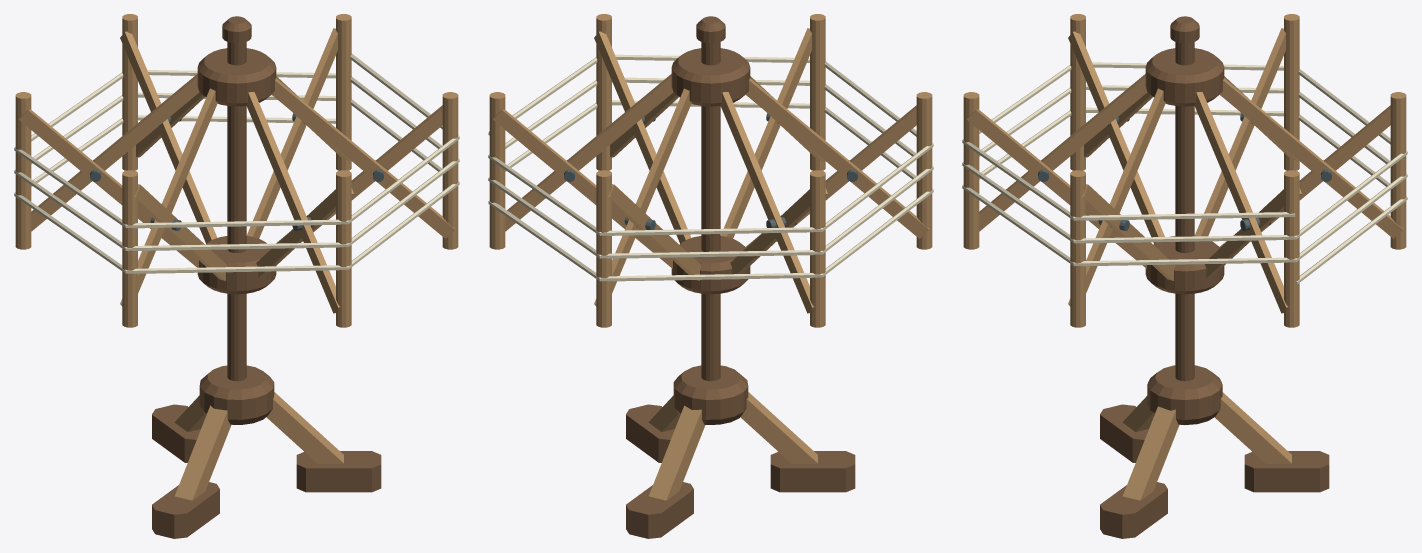
3 views of the same model, side by side, from view 1: azimuth 30°, elevation 25°; view 2: azimuth 150°, elevation 25°; view 3: azimuth 270°, elevation 25° (orthographic).
Visible parts, largest first — view 1: OneContinuousThreeCircuitYarnStrand, WholeVerticalMast, UpperWholeBoredRibHub, WholeDescendingRib5, CentralBaseHub, WholeGroundShoe2, WholeDescendingRib2, WholeDescendingRib4, WholeGroundShoe1, WholeSlopingBaseLeg1, WholeAscendingRib1, WholeAscendingRib2 (+16 smaller); view 2: OneContinuousThreeCircuitYarnStrand, WholeVerticalMast, UpperWholeBoredRibHub, WholeDescendingRib3, CentralBaseHub, WholeGroundShoe1, WholeDescendingRib0, WholeDescendingRib2, WholeGroundShoe0, WholeSlopingBaseLeg0, WholeAscendingRib5, WholeAscendingRib0 (+16 smaller); view 3: OneContinuousThreeCircuitYarnStrand, WholeVerticalMast, UpperWholeBoredRibHub, WholeDescendingRib1, CentralBaseHub, WholeGroundShoe0, WholeDescendingRib4, WholeDescendingRib0, WholeGroundShoe2, WholeSlopingBaseLeg2, LowerWholeBoredRibHub, WholeAscendingRib3 (+16 smaller).
Boxes of the visible parts, x1,y1,x2,y2 form: OneContinuousThreeCircuitYarnStrand: [14, 53, 459, 273]; WholeVerticalMast: [222, 16, 251, 381]; UpperWholeBoredRibHub: [197, 48, 276, 106]; WholeDescendingRib5: [271, 78, 455, 238]; CentralBaseHub: [199, 365, 274, 424]; WholeGroundShoe2: [296, 451, 381, 492]; WholeDescendingRib2: [31, 74, 199, 231]; WholeDescendingRib4: [246, 92, 340, 313]; WholeGroundShoe1: [152, 482, 219, 538]; WholeSlopingBaseLeg1: [174, 405, 231, 500]; WholeAscendingRib1: [120, 31, 217, 243]; WholeAscendingRib2: [18, 109, 198, 267]; OneContinuousThreeCircuitYarnStrand: [488, 54, 933, 281]; WholeVerticalMast: [696, 16, 725, 381]; UpperWholeBoredRibHub: [671, 48, 750, 106]; WholeDescendingRib3: [745, 78, 929, 238]; CentralBaseHub: [673, 365, 748, 424]; WholeGroundShoe1: [770, 451, 855, 492]; WholeDescendingRib0: [505, 74, 673, 231]; WholeDescendingRib2: [720, 92, 814, 313]; WholeGroundShoe0: [626, 482, 693, 538]; WholeSlopingBaseLeg0: [648, 405, 705, 500]; WholeAscendingRib5: [594, 31, 691, 243]; WholeAscendingRib0: [492, 109, 672, 268]; OneContinuousThreeCircuitYarnStrand: [962, 62, 1407, 284]; WholeVerticalMast: [1170, 16, 1199, 381]; UpperWholeBoredRibHub: [1145, 48, 1224, 106]; WholeDescendingRib1: [1219, 78, 1403, 238]; CentralBaseHub: [1147, 365, 1222, 424]; WholeGroundShoe0: [1244, 451, 1329, 492]; WholeDescendingRib4: [979, 74, 1147, 231]; WholeDescendingRib0: [1194, 92, 1288, 313]; WholeGroundShoe2: [1100, 482, 1167, 538]; WholeSlopingBaseLeg2: [1122, 406, 1179, 500]; LowerWholeBoredRibHub: [1145, 236, 1224, 294]; WholeAscendingRib3: [1068, 31, 1164, 243].
Size of the model in its own units: 1.23 by 1.63 by 1.42.
